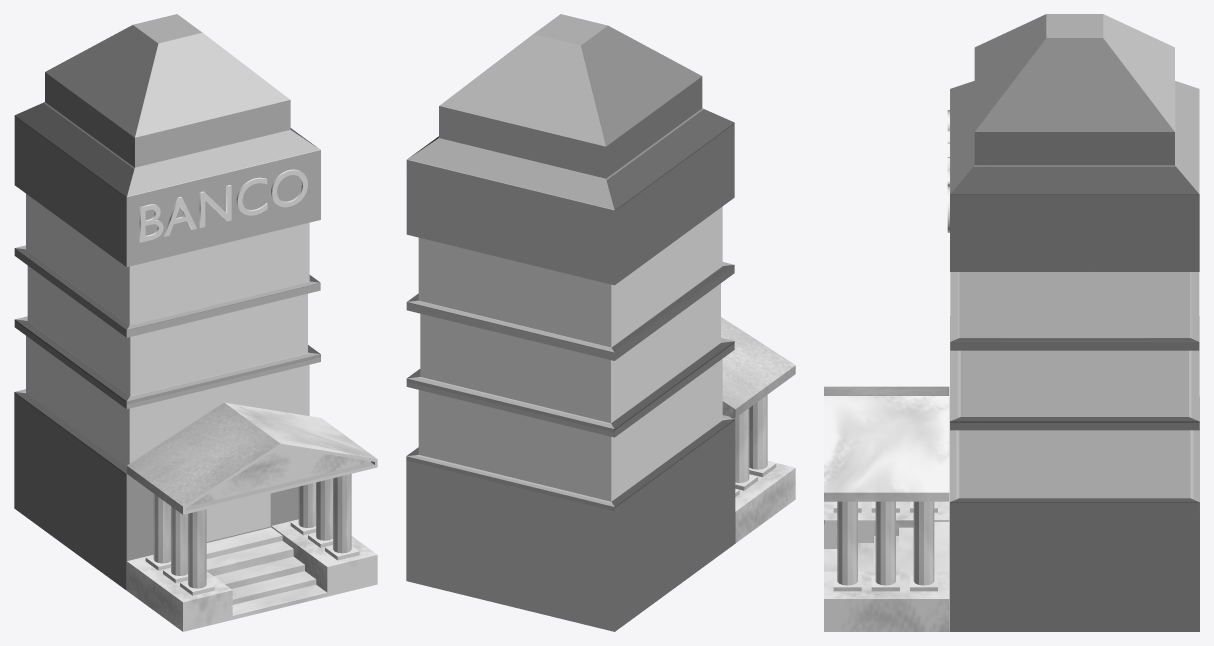
File: bank_es.gltf
The picture shows the model from 3 angles, left to right: view 1: azimuth 30°, elevation 25°; view 2: azimuth 150°, elevation 25°; view 3: azimuth 270°, elevation 25°; orthographic projection. The views are drawn at different scales.
Visible parts, largest first — view 1: Banco_Bldg; view 2: Banco_Bldg; view 3: Banco_Bldg.
Part boxes in pixels (left/top/right/bottom): Banco_Bldg: left=14, top=14, right=377, bottom=631; Banco_Bldg: left=406, top=14, right=795, bottom=631; Banco_Bldg: left=824, top=14, right=1199, bottom=631.
Size of the model in its own units: 2 by 4.88 by 3.
Materials: 2 (1 with a texture image).
